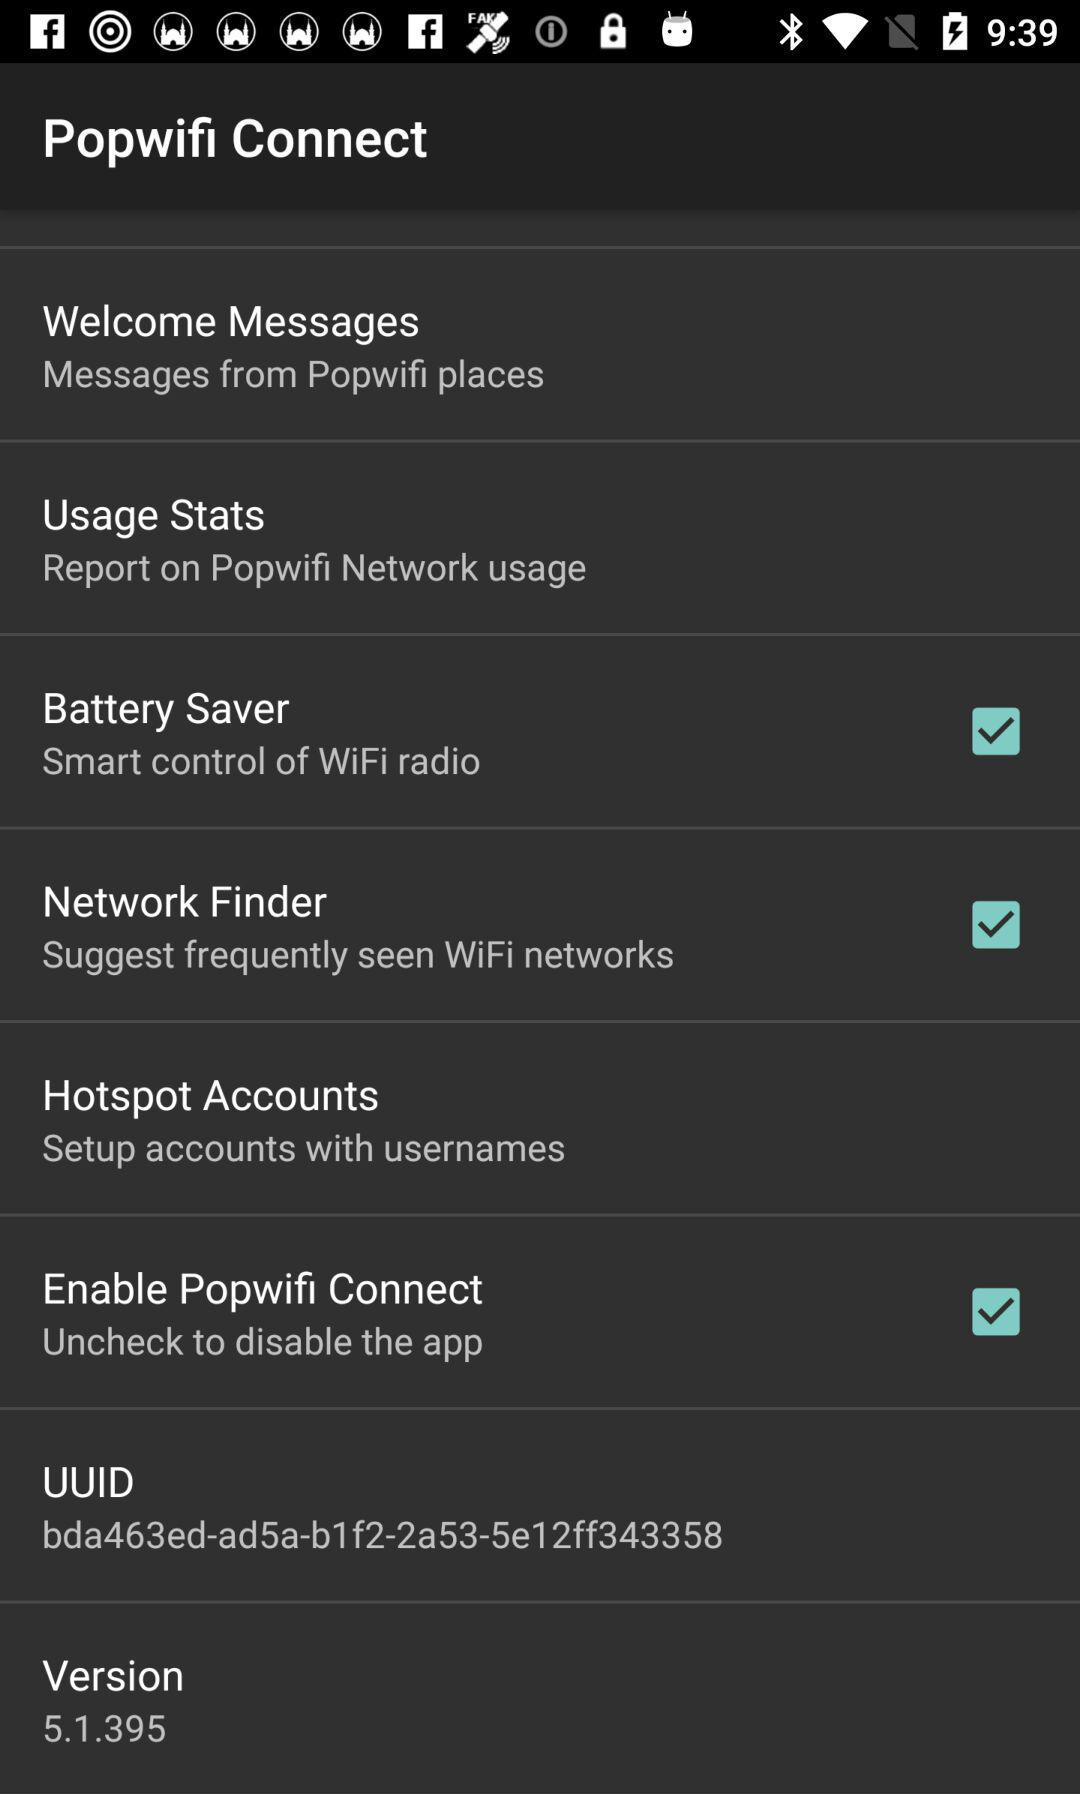CheckedTextView: (970, 1287, 1021, 1338), (971, 706, 1022, 757), (971, 900, 1022, 950)
Text: (44, 939, 674, 976), (44, 1518, 724, 1551), (45, 117, 429, 170), (45, 552, 587, 589), (44, 1133, 566, 1170), (45, 359, 544, 397), (45, 1270, 484, 1313), (44, 302, 420, 346), (44, 1326, 484, 1363), (45, 1079, 380, 1121), (42, 745, 480, 777), (45, 691, 291, 734), (44, 883, 328, 919), (44, 498, 265, 539), (44, 1658, 184, 1693), (44, 1715, 167, 1744), (45, 1465, 135, 1499)
Toolbar: (1, 62, 1080, 211)
UpperTaskBar: (1, 1, 1080, 64)
